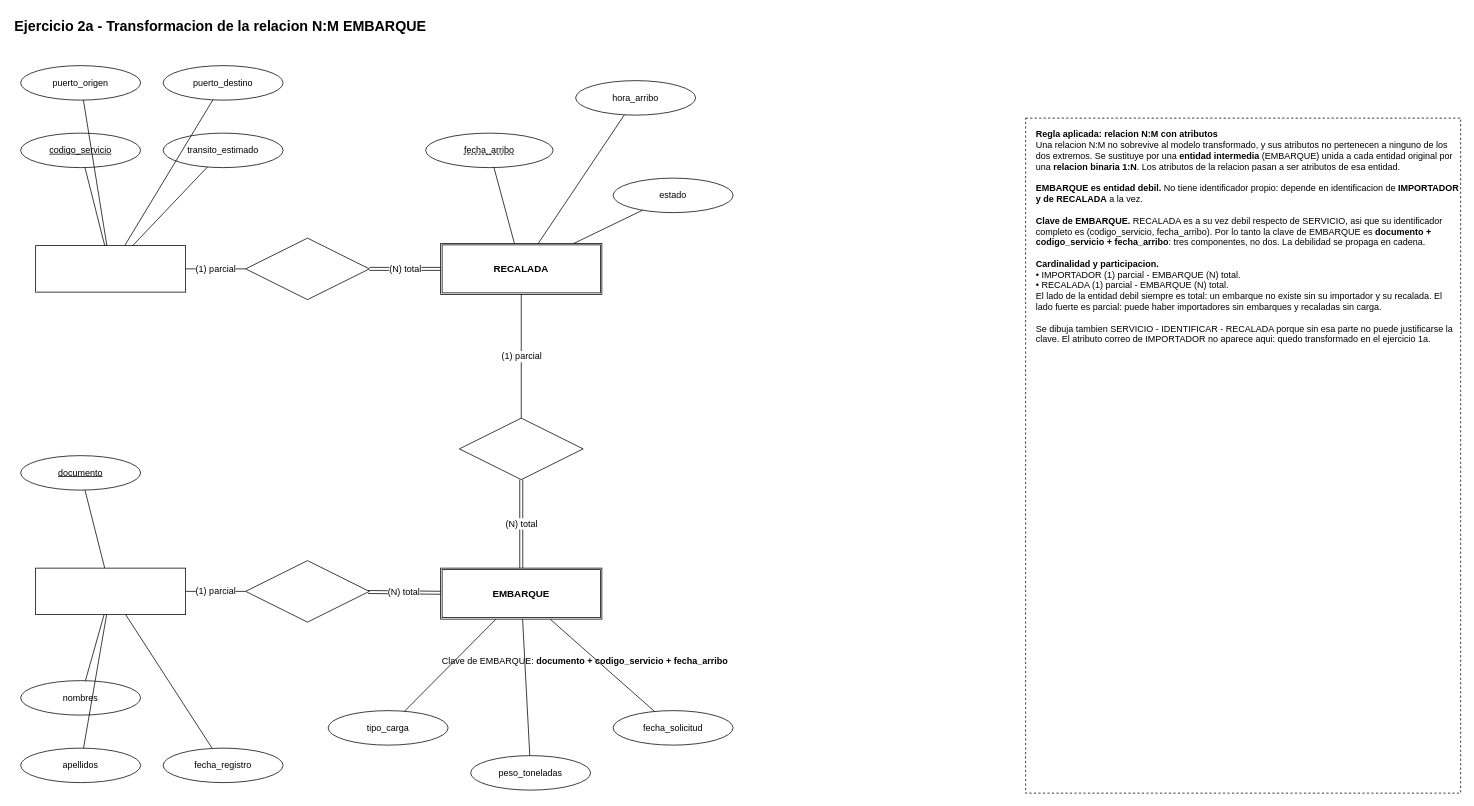
The diagram is 1474 pixels wide and 806 high, and some of its shapes have lost their labels. Here are the shapes that lost their labels. From the top down, the centre of each, then its label:
At point (110, 268): "SERVICIO".
At point (307, 268): "IDENTIFICAR".
At point (521, 448): "PERTENECER".
At point (110, 591): "IMPORTADOR".
At point (307, 591): "REALIZAR".
